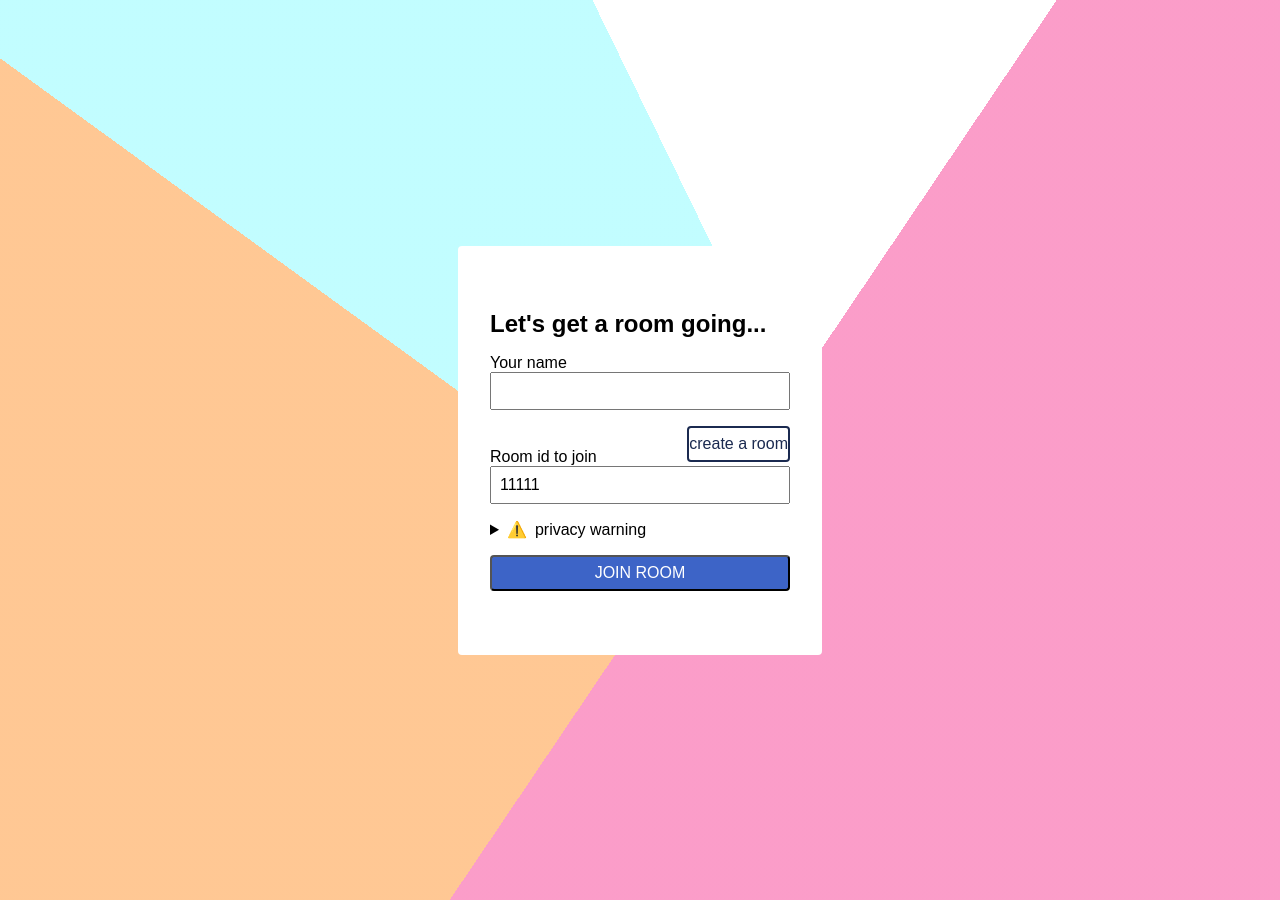
Test: <lobby /> › creating a room › generates an id when switching to creating
Expected: the text "stub-roomid" is not shown
Click the button "Create a room" at (739, 444), box x1=687 y1=426 x2=790 y2=462
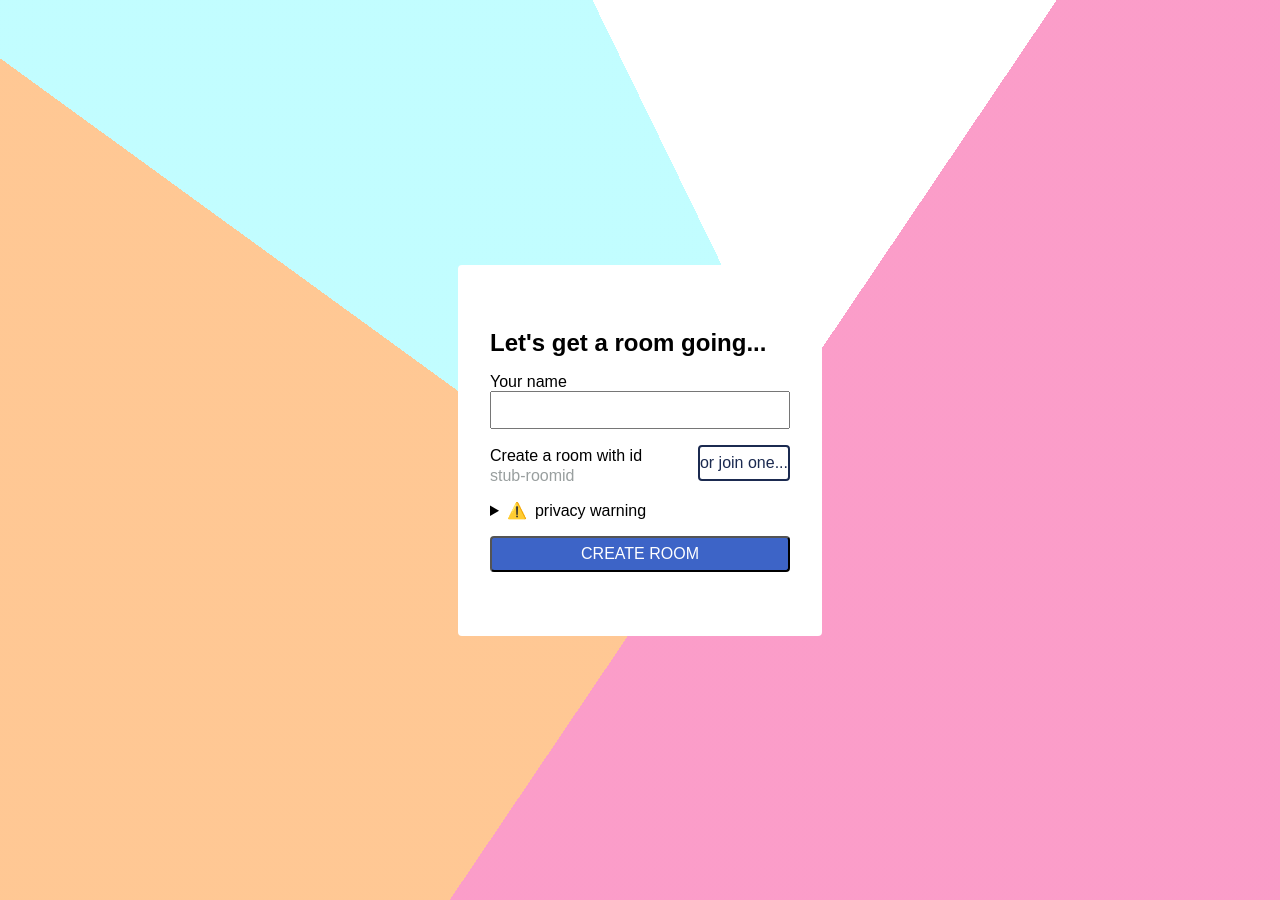
Expected: the text "stub-roomid" is shown, x1=490 y1=466 x2=574 y2=484
